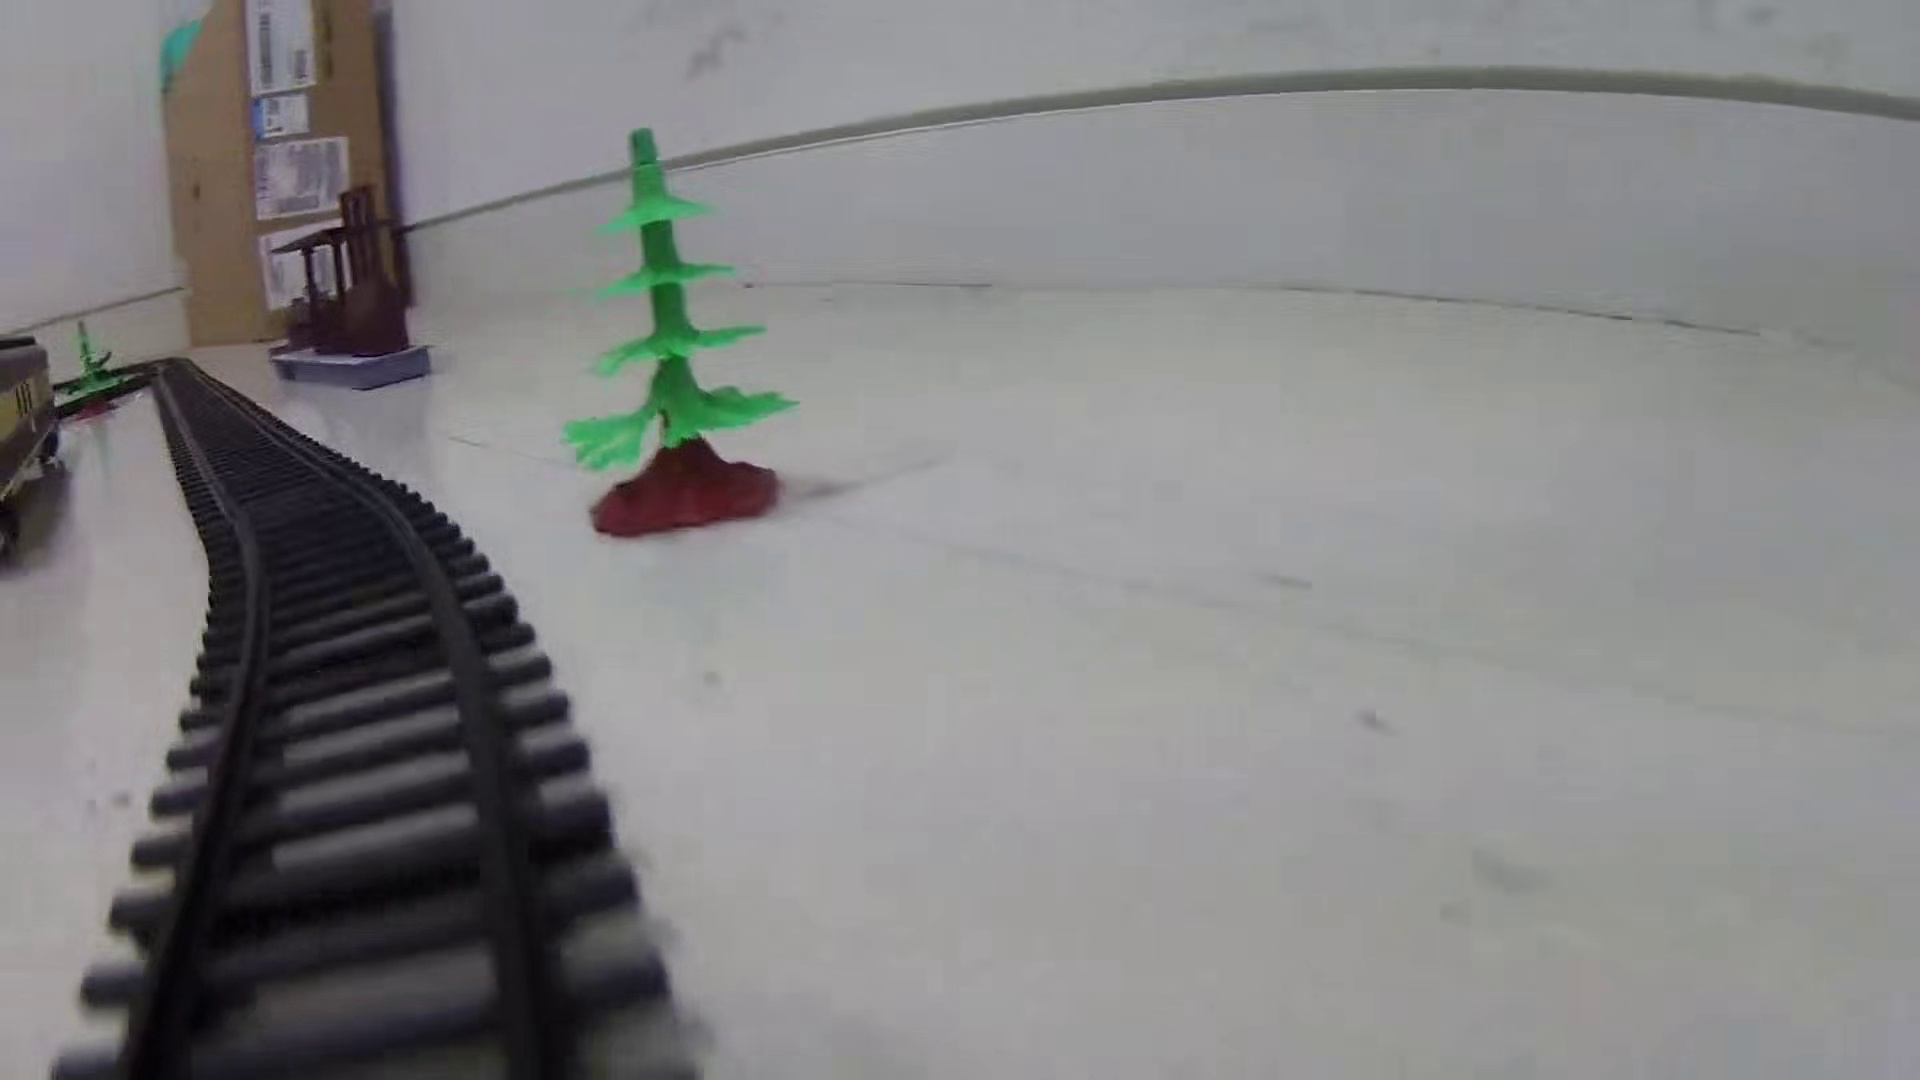tree: (564, 129, 801, 538), (70, 315, 114, 424)
